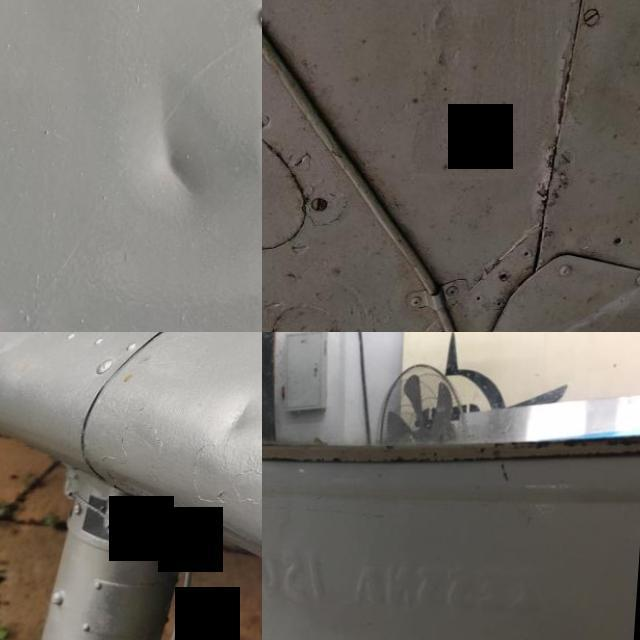Crack: (262, 444, 635, 473), (262, 512, 281, 561)
Dent: (503, 195, 640, 332), (120, 80, 239, 229), (198, 362, 262, 460)
